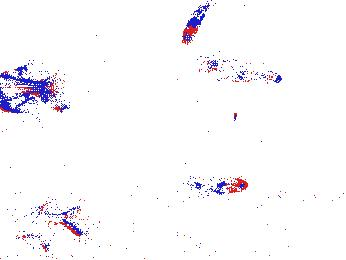red belly glassfish: (191, 175, 249, 196), (182, 2, 211, 44), (274, 185, 316, 204)
redtail glassfish: (199, 53, 284, 87), (3, 208, 75, 239), (1, 72, 59, 108)
